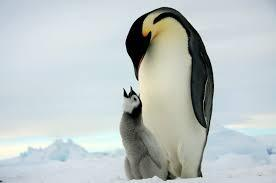emporer: (116, 0, 214, 181)
